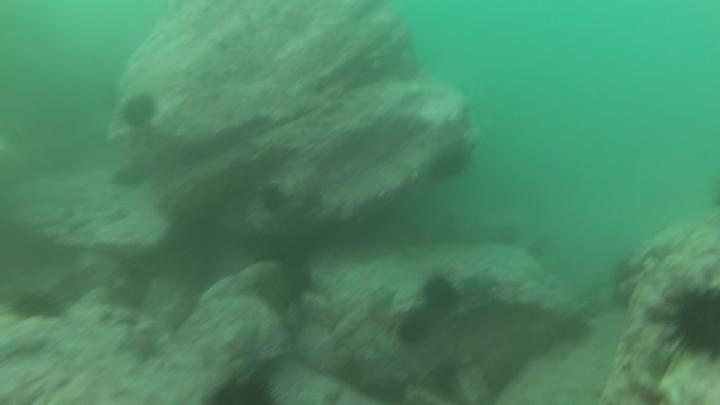echinus: (658, 276, 720, 366), (202, 372, 284, 405), (8, 288, 64, 324), (419, 273, 461, 313), (119, 91, 160, 131), (395, 310, 433, 348), (257, 182, 289, 216), (109, 165, 139, 187)
starfish: (116, 327, 166, 366), (220, 321, 264, 365), (1, 329, 51, 364), (458, 268, 503, 296), (364, 282, 399, 315)
